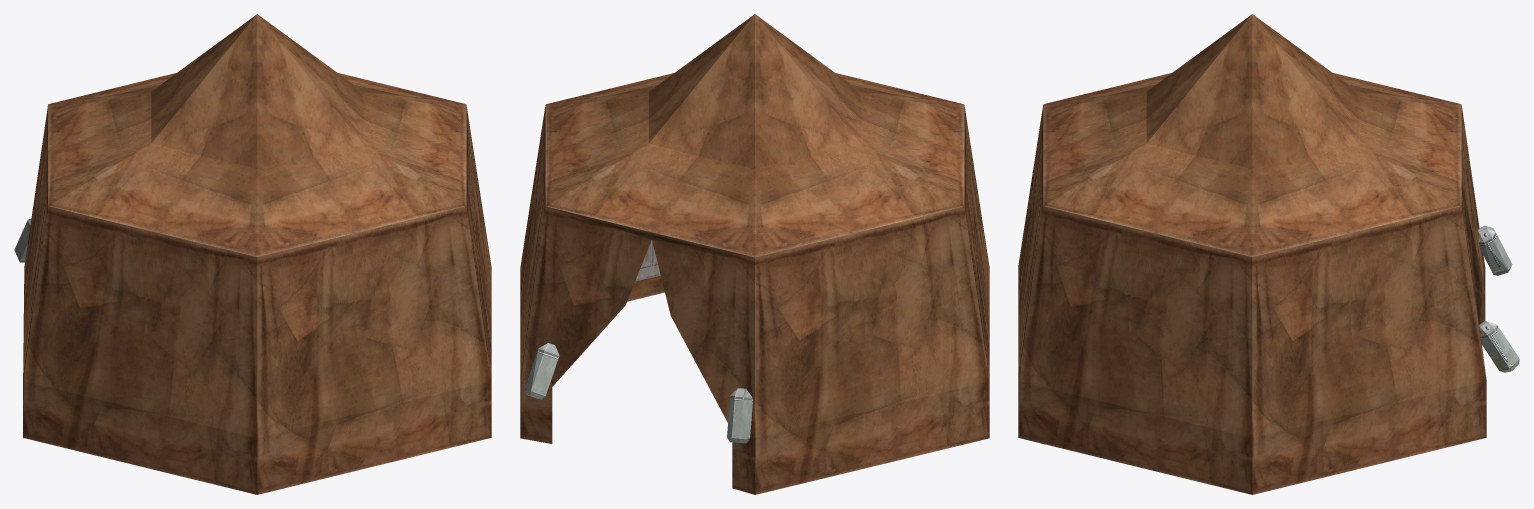
File: poi_tato_tent_s01_l2.fbx
3 views of the same model, side by side, from view 1: azimuth 30°, elevation 25°; view 2: azimuth 150°, elevation 25°; view 3: azimuth 270°, elevation 25° (orthographic).
Visible parts, largest first — view 1: mesh_node; view 2: mesh_node; view 3: mesh_node.
Boxes of the visible parts, x1=… form: mesh_node: x1=14, y1=14, x2=491, y2=494; mesh_node: x1=520, y1=14, x2=989, y2=494; mesh_node: x1=1018, y1=14, x2=1519, y2=494.
Bounding box in the file's own units: 8.62 × 6.45 × 8.
